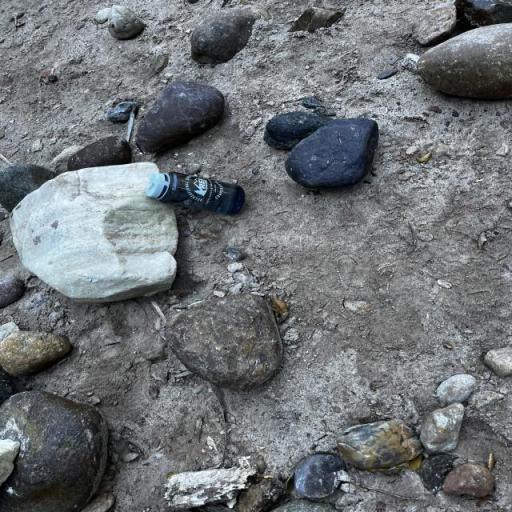bottle: (144, 171, 246, 216)
